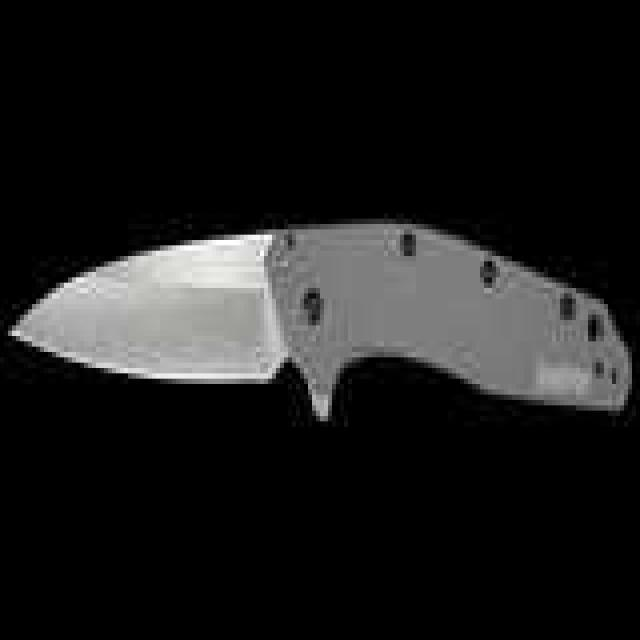weapon: (3, 236, 640, 504)
